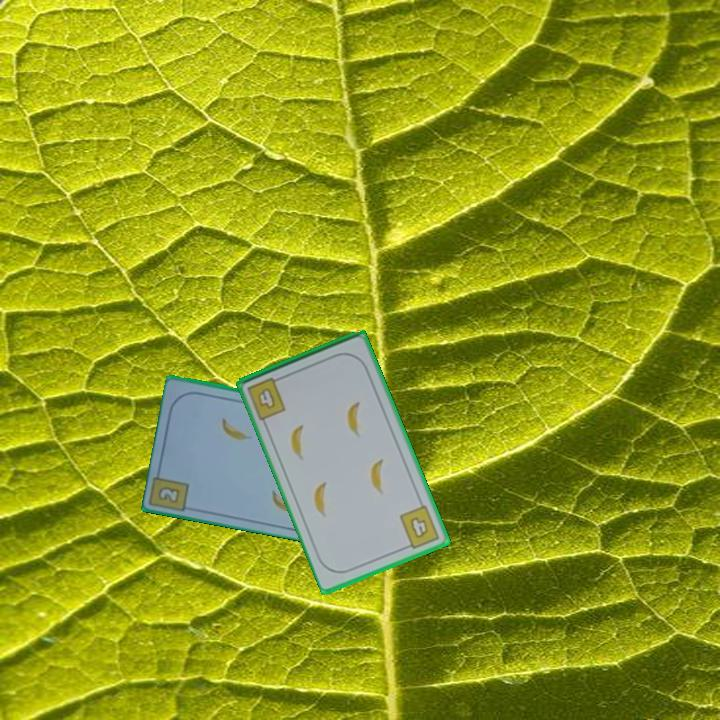2b: (157, 484, 181, 504)
4b: (396, 502, 443, 553), (244, 373, 289, 423)
